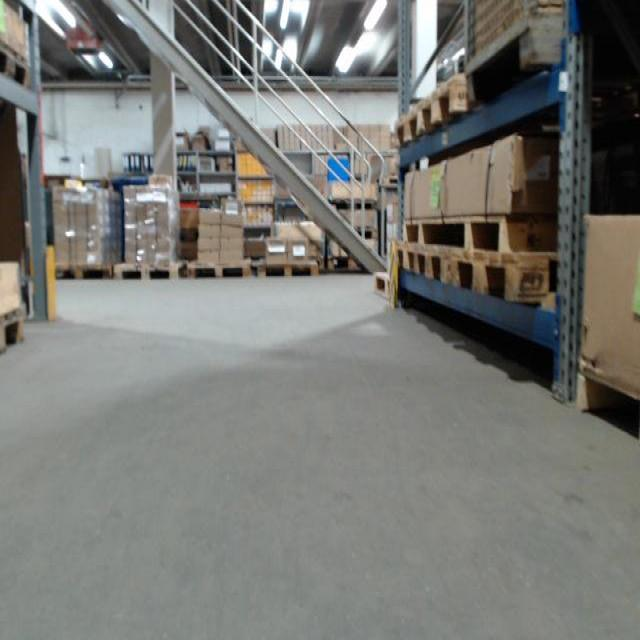pallet: (442, 253, 562, 301), (420, 76, 468, 138), (184, 255, 253, 280), (0, 38, 34, 88), (393, 101, 423, 152), (412, 242, 448, 282), (114, 259, 184, 278), (0, 308, 25, 355), (259, 260, 318, 279), (56, 261, 111, 280), (392, 243, 416, 275)
stillage: (463, 0, 570, 110)
